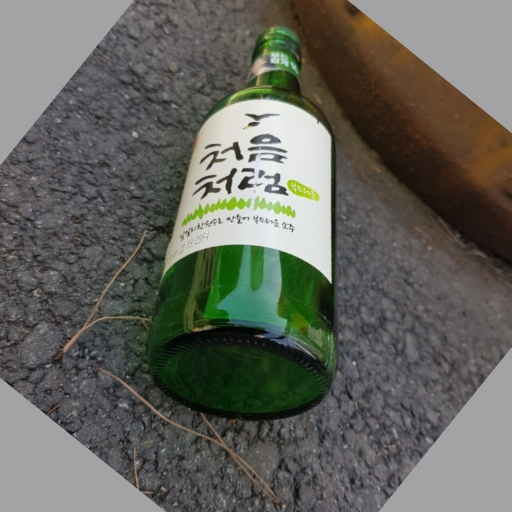Glass_0: (150, 26, 341, 423)
